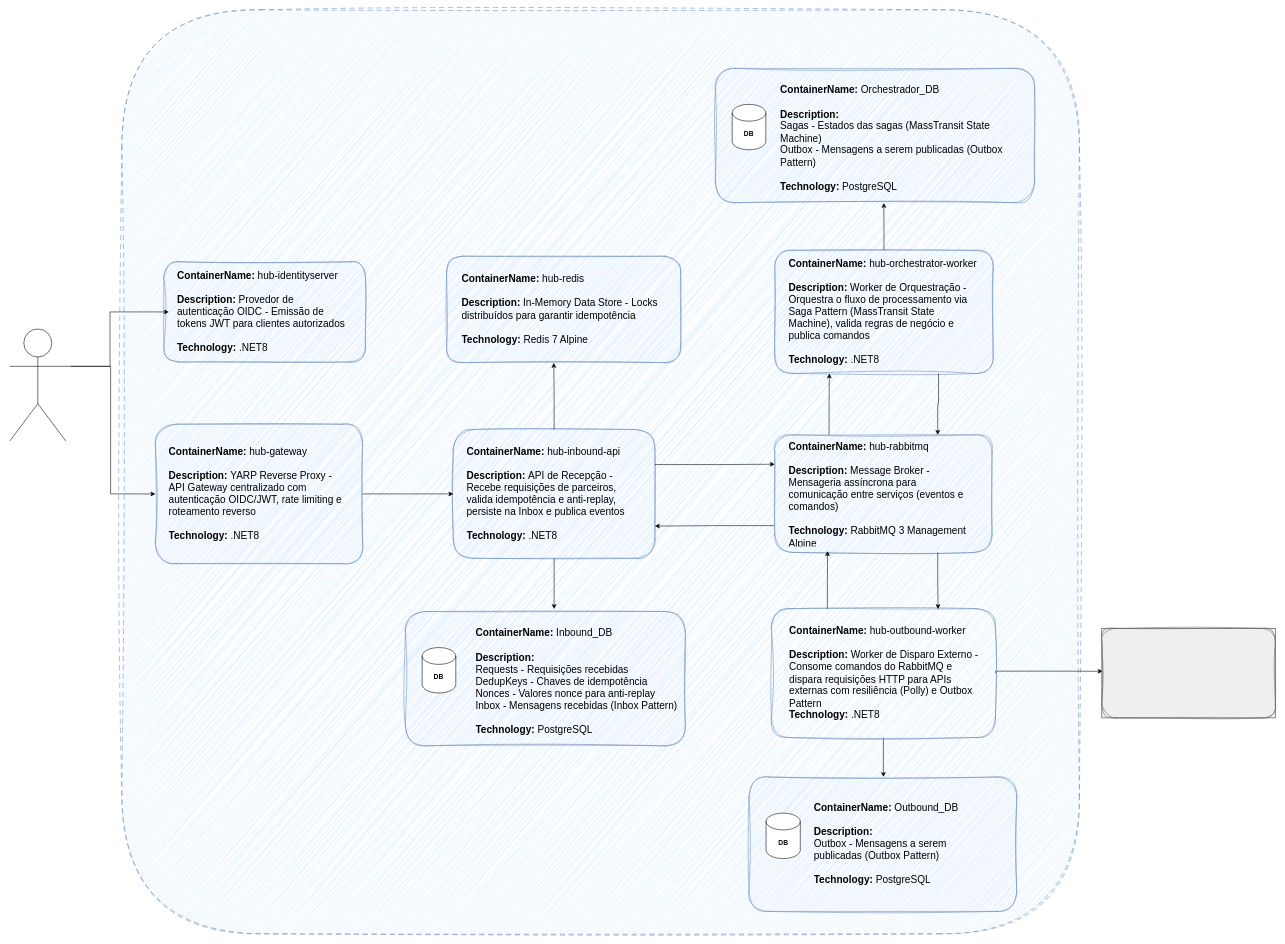
The diagram is 1285 pixels wide and 944 high, and some of its shapes have lost their labels. Here are the shapes that lost their labels. From the top down, the centre of each, then its label:
At point (37, 384): "Actor".
At point (1188, 673): "ContainerName: Parceiros Terceiros".
